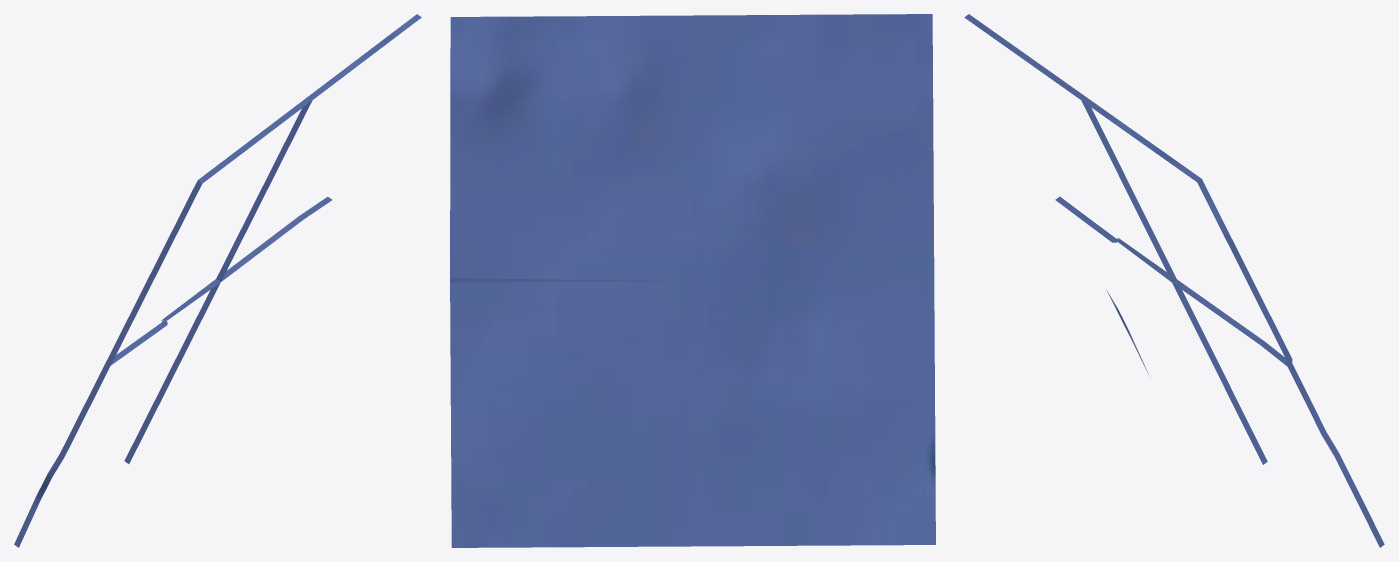
3 views of the same model, side by side, from view 1: azimuth 30°, elevation 25°; view 2: azimuth 150°, elevation 25°; view 3: azimuth 270°, elevation 25° (orthographic). The views are drawn at different scales.
Size of the model in its own units: 19647 by 17862 by 16478.
Materials: 1 (1 with a texture image).
